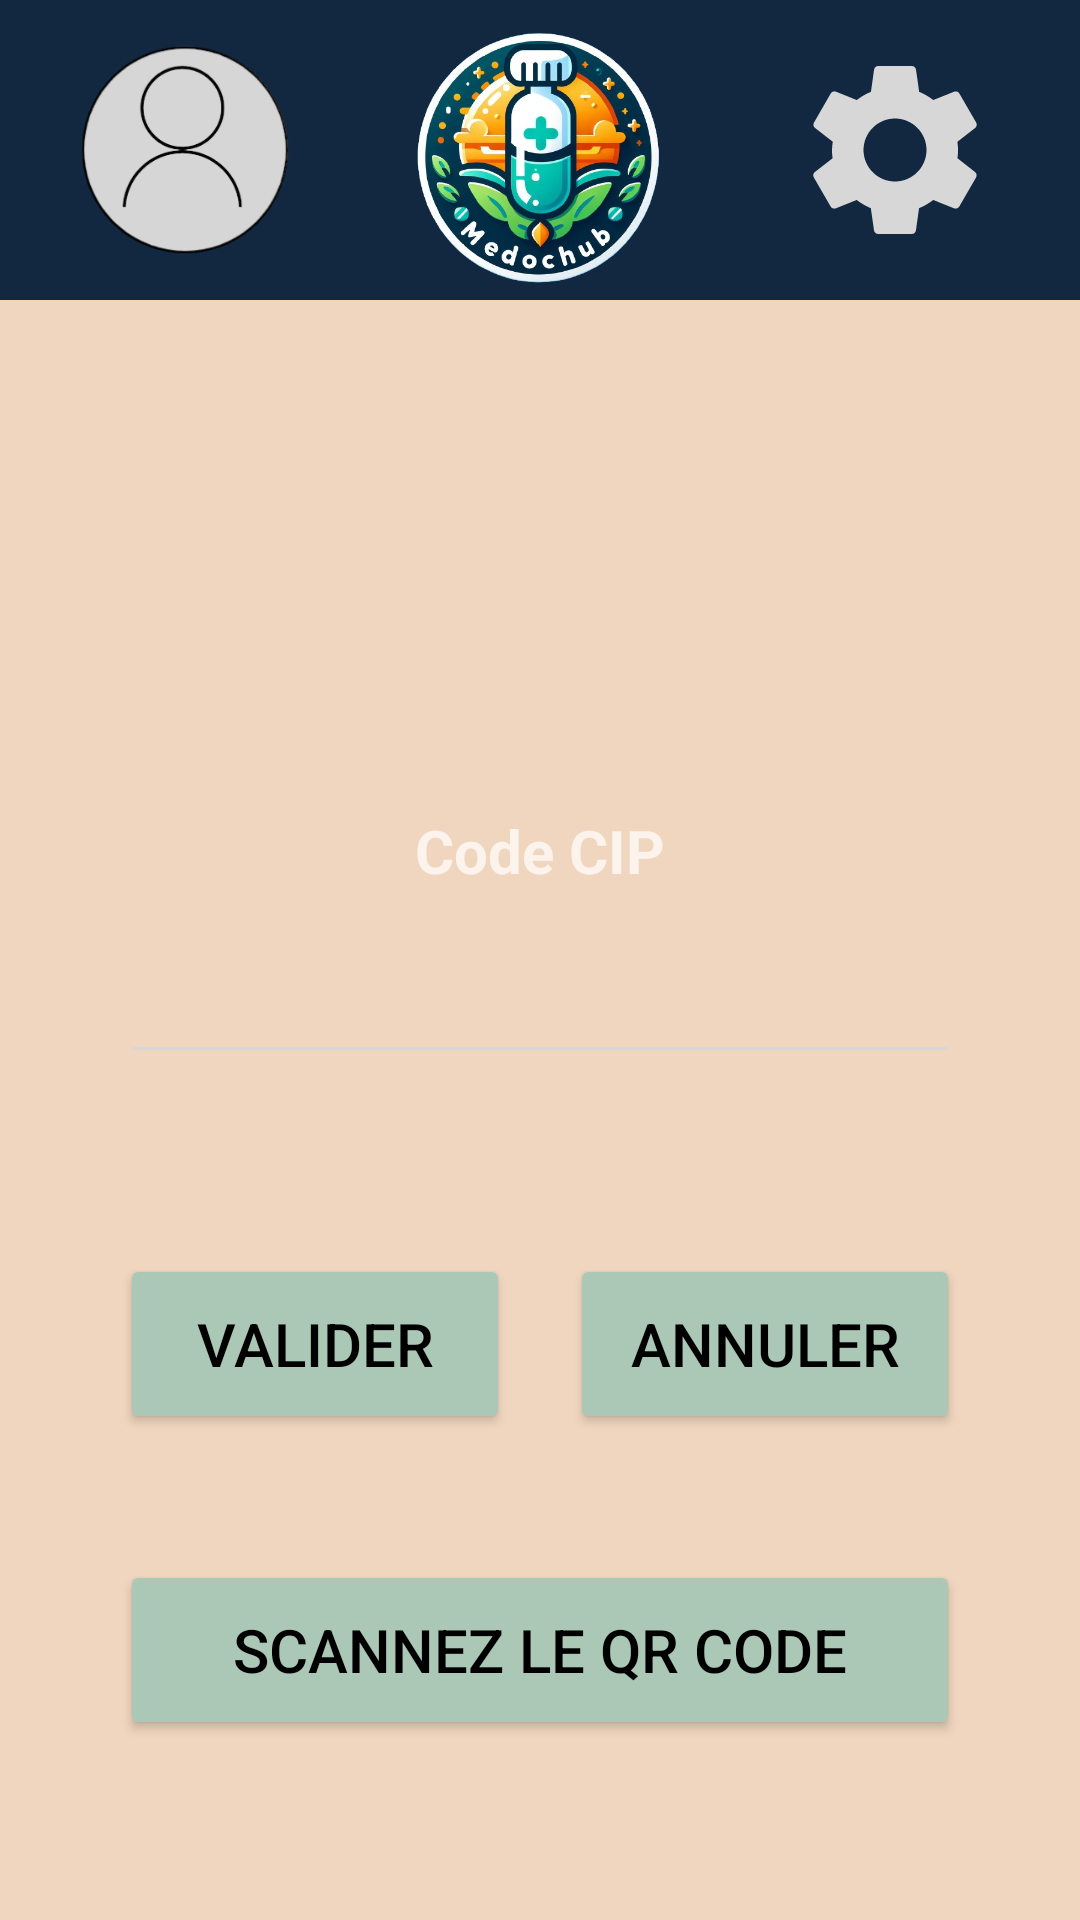

Named icons in this screenshot (1080*1920) and their centers, (x=x, y=y):
settings: (x=895, y=150)
